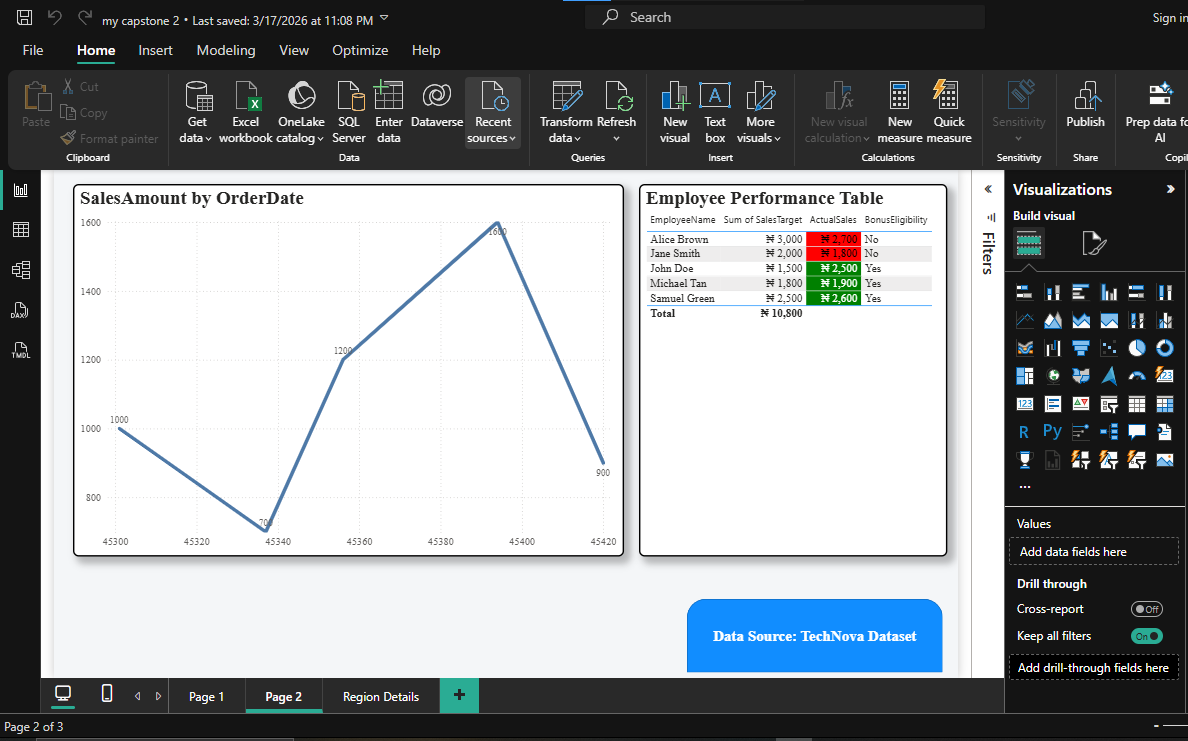

This screenshot's page, from the dashboard's own definition file:
{"tool":"powerbi","page":{"name":"Page 2","canvas":[1280,720],"ordinal":1},"visuals":[{"type":"tableEx","title":"Employee Performance  Table","fields":{"Values":["employees employees_performance.EmployeeName","Sum(employees employees_performance.SalesTarget)","Sales Data.ActualSales","employees employees_performance.BonusEligibility"]},"box":[779,20,480.9,356.7],"z":0},{"type":"lineChart","title":"SalesAmount by OrderDate","fields":{"Category":["Sales Data.OrderDate"],"Y":["Sum(Sales Data.SalesAmount)"]},"box":[175.5,20,566.5,356.7],"z":3001},{"type":"textbox","title":"SalesAmount by OrderDate","box":[175.5,403.8,566.5,305.4],"z":3002},{"type":"group","id":"g1","title":"Group 2","box":[0,0,112.7,719.2],"z":3003},{"type":"textbox","box":[0,0,112.7,719.2],"z":6000,"group":"g1"},{"type":"image","box":[38.5,117.8,35.7,31],"z":8000,"group":"g1"},{"type":"image","box":[38.5,212.3,35.7,31],"z":9000,"group":"g1"},{"type":"shape","box":[25.7,107.4,62.8,60.5],"z":9500,"group":"g1"},{"type":"image","box":[38.5,36.5,35.7,31],"z":9750,"group":"g1"},{"type":"image","box":[38.5,633.2,35.7,31],"z":10000,"group":"g1"}]}

Visuals, with their boxes on the page's 1280x720 design canvas (x1, y1, x2, y2). These are canvas units, not pixel positions in the 1188x741 screenshot, which may show the page scaled, cropped or inside an application window:
"Employee Performance  Table" tableEx: locate(779, 20, 1260, 377)
"SalesAmount by OrderDate" lineChart: locate(176, 20, 742, 377)
"SalesAmount by OrderDate" textbox: locate(176, 404, 742, 709)
"Group 2" group: locate(0, 0, 113, 719)
textbox: locate(0, 0, 113, 719)
image: locate(38, 118, 74, 149)
image: locate(38, 212, 74, 243)
shape: locate(26, 107, 88, 168)
image: locate(38, 36, 74, 68)
image: locate(38, 633, 74, 664)
